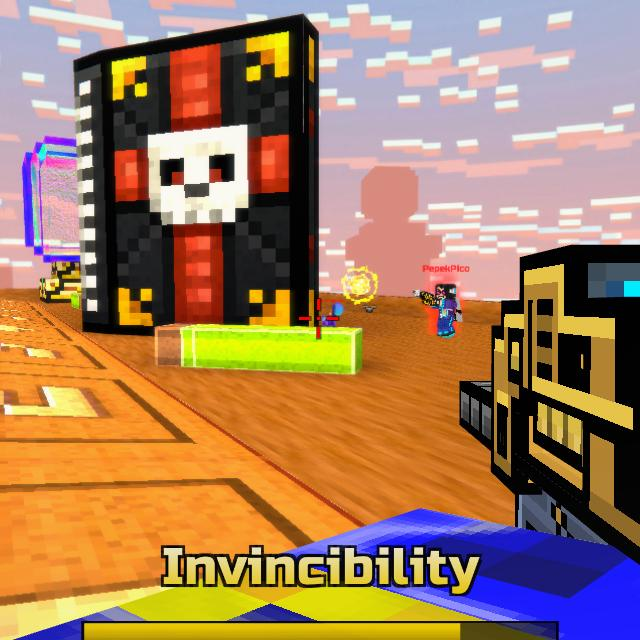Enemy: (426, 282, 459, 339)
